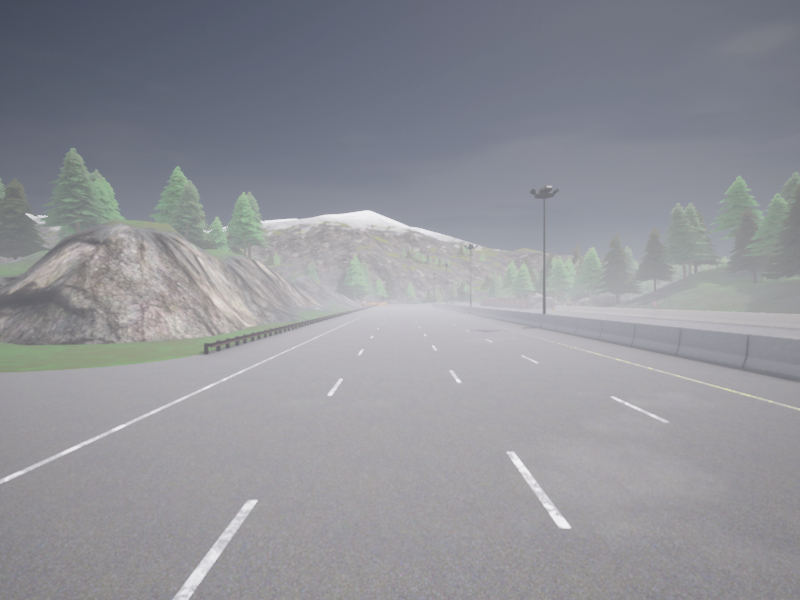vehicle: (450, 302, 454, 304), (479, 301, 482, 303)
